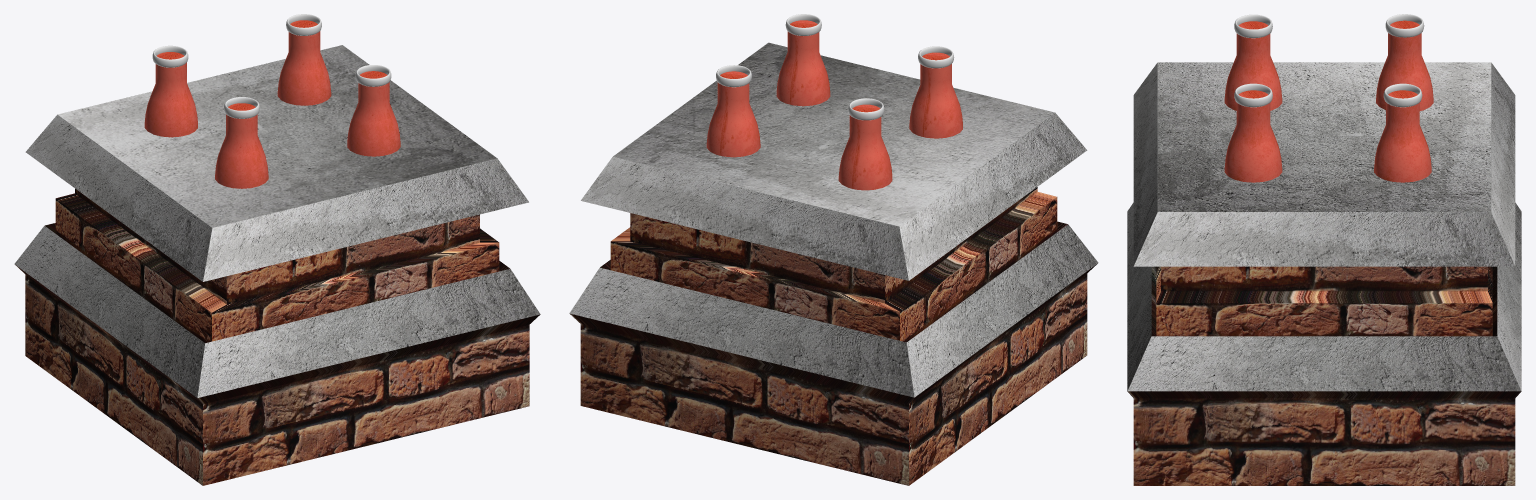
Rendered from Chimney 1.fbx.
3 views of the same model, side by side, from view 1: azimuth 30°, elevation 25°; view 2: azimuth 150°, elevation 25°; view 3: azimuth 270°, elevation 25° (orthographic). The views are drawn at different scales.
Visible parts, largest first — view 1: Box001, Cylinder002, Cylinder004, Cylinder003, Cylinder001; view 2: Box001, Cylinder001, Cylinder003, Cylinder002, Cylinder004; view 3: Box001, Cylinder003, Cylinder002, Cylinder004, Cylinder001, Torus003, Torus004, Torus002, Torus001.
Part boxes in pixels (x1,y1,x2,y2): Box001: (14, 45, 540, 485); Cylinder002: (277, 20, 331, 105); Cylinder004: (215, 103, 268, 188); Cylinder003: (347, 71, 400, 156); Cylinder001: (144, 52, 197, 137); Box001: (569, 42, 1098, 485); Cylinder001: (838, 104, 892, 190); Cylinder003: (776, 20, 830, 106); Cylinder002: (706, 71, 760, 157); Cylinder004: (909, 52, 962, 138); Box001: (1127, 62, 1521, 485); Cylinder003: (1224, 90, 1282, 182); Cylinder002: (1374, 90, 1431, 182); Cylinder004: (1224, 21, 1282, 110); Cylinder001: (1376, 20, 1433, 110); Torus003: (1234, 83, 1272, 107); Torus004: (1234, 14, 1272, 38); Torus002: (1383, 83, 1422, 107); Torus001: (1385, 14, 1424, 37).
Size of the model in its own units: 37.5 by 33.22 by 34.66.
Materials: 3 (3 with a texture image).
